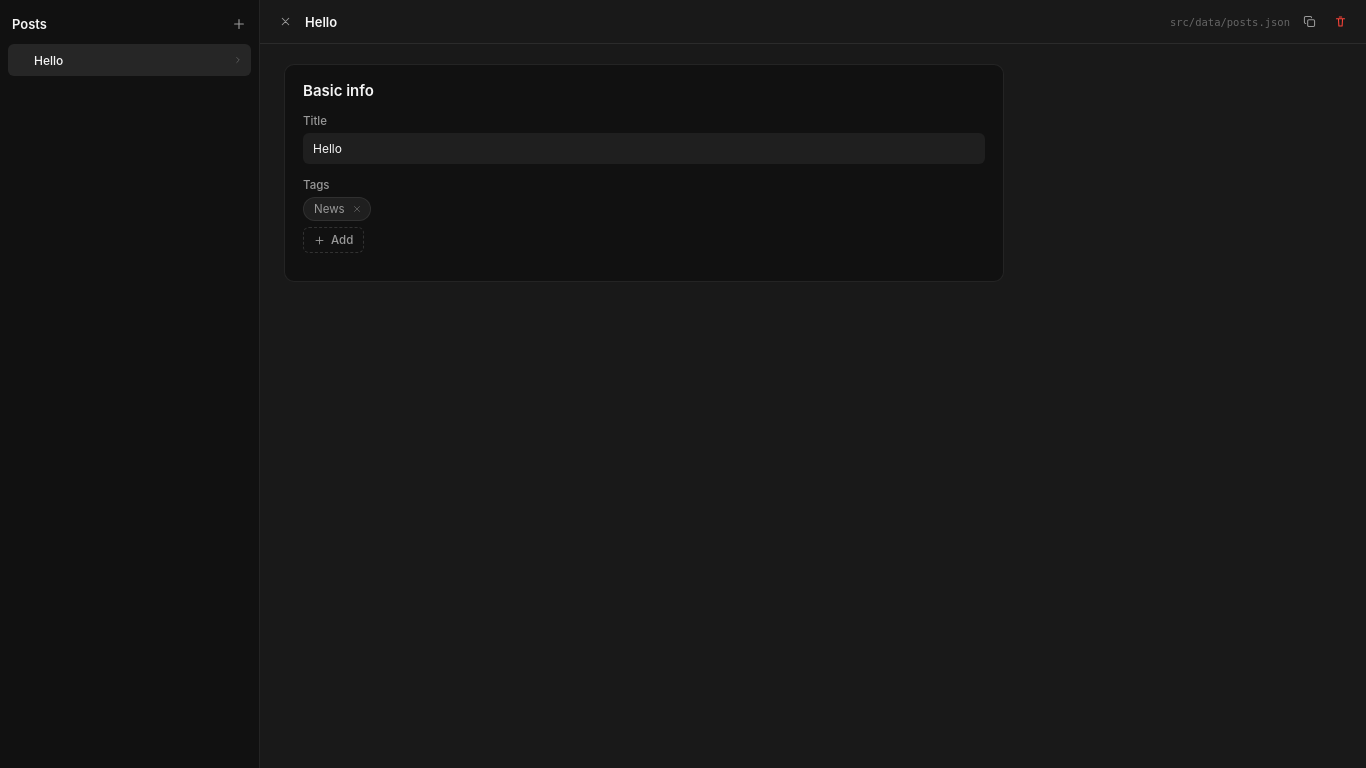
it: editing a multi-reference value › adds a chip and can remove it
Expected: the text "News" is shown, [303, 197, 371, 221]
What coordinates should you click on to do the following:
click the button "Add"
I would click on:
 (334, 240)
Its box is [303, 227, 364, 253].
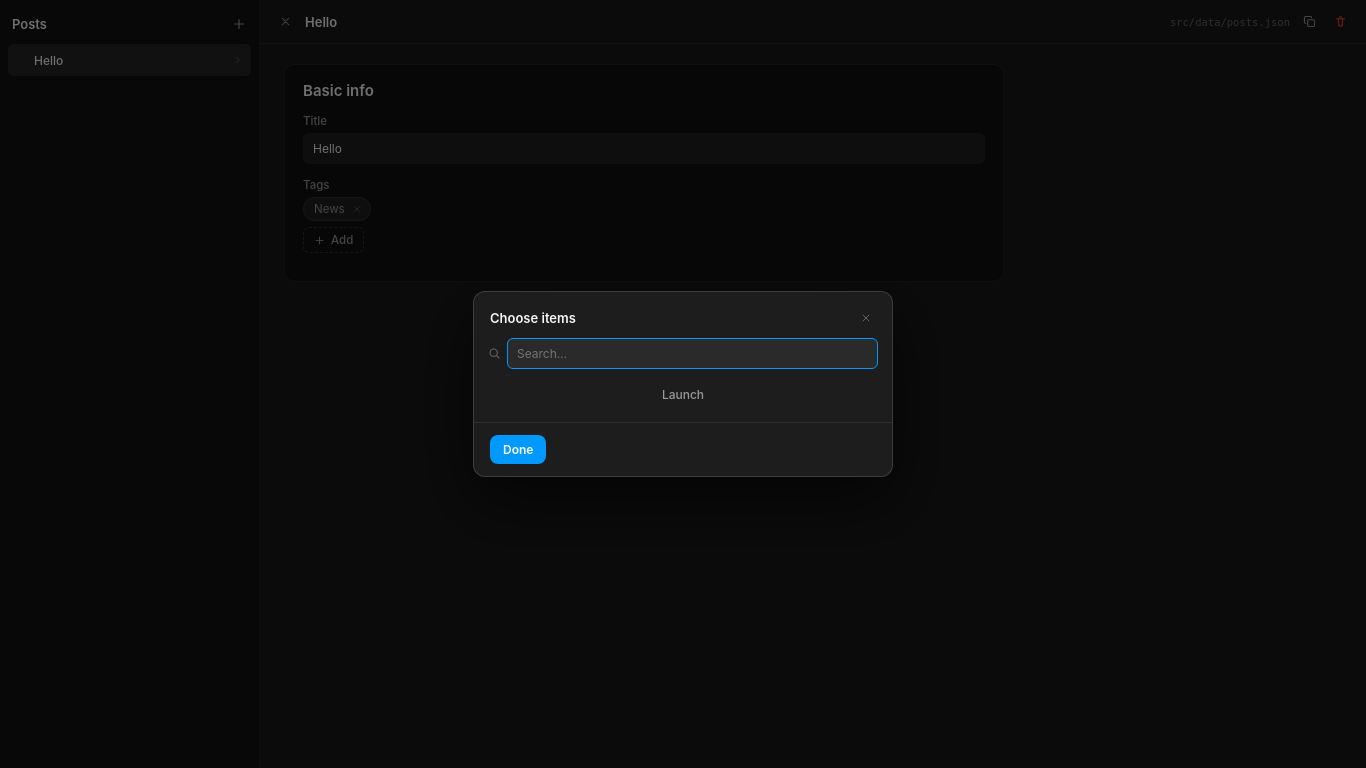
What coordinates should you click on to do the following:
click the button "Launch"
I would click on:
 (683, 394)
Its box is [482, 379, 884, 410].
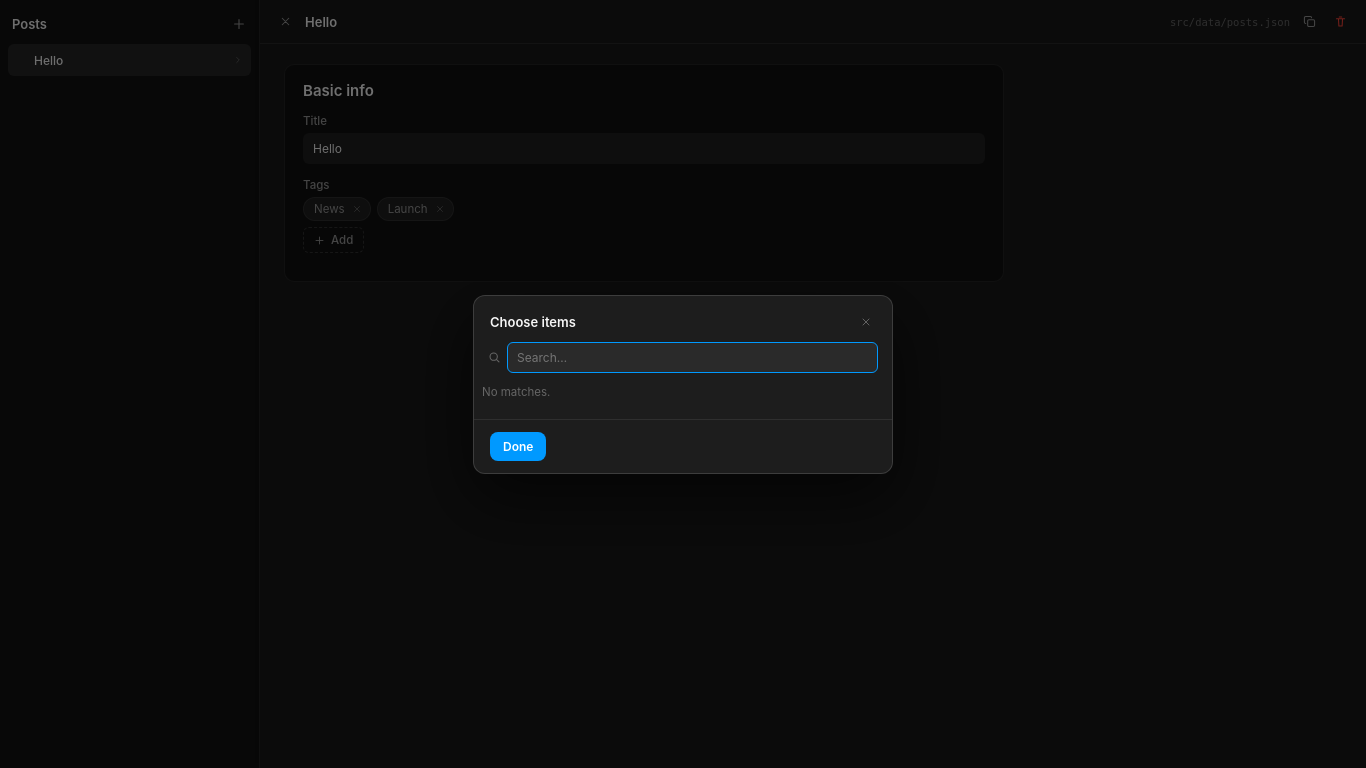
Expected: the text "Launch" is shown, [377, 197, 454, 221]
What coordinates should you click on to do the following:
click the button "Done"
I would click on:
 (518, 446)
Its box is [490, 432, 546, 460].
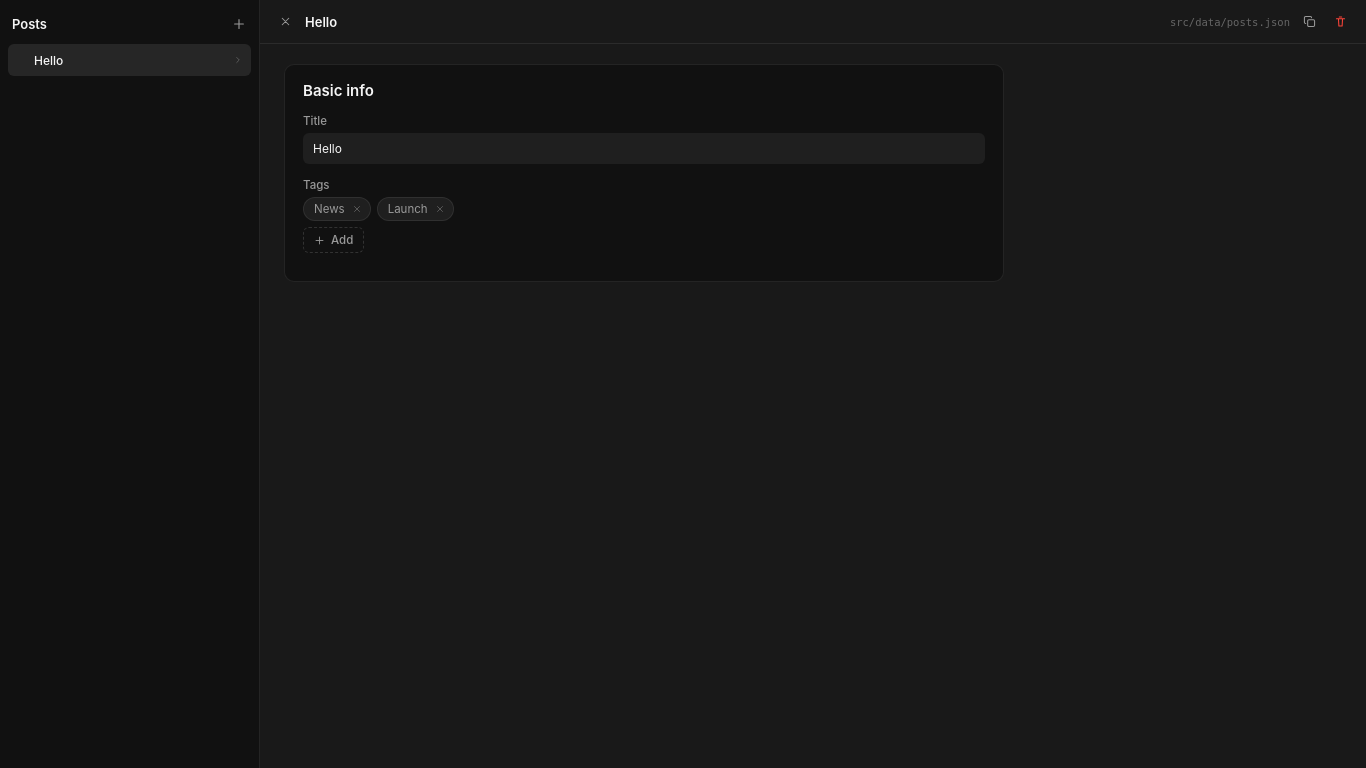
What coordinates should you click on to do the following:
click the button titled "Remove" next to "News"
I would click on:
 (357, 209)
Its box is [350, 202, 364, 216].
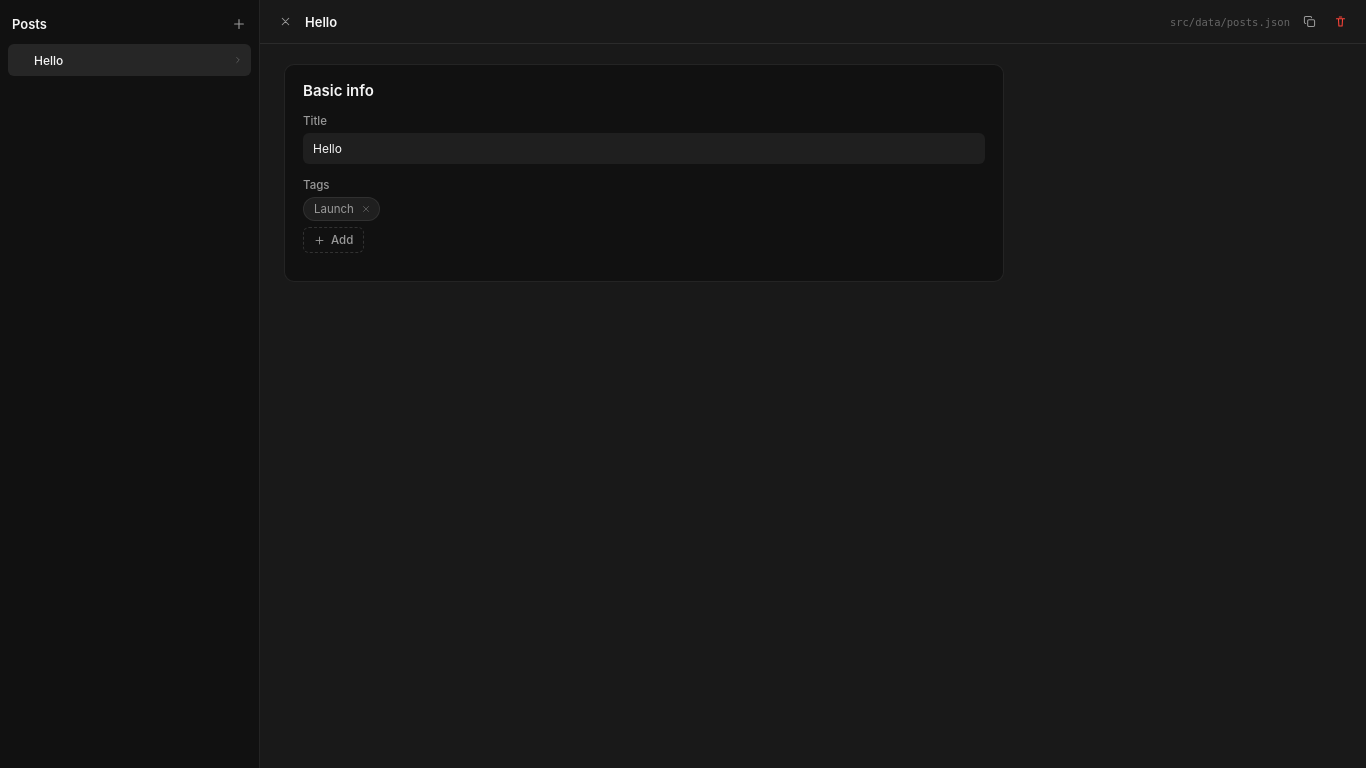
Expected: the text "News" is gone
